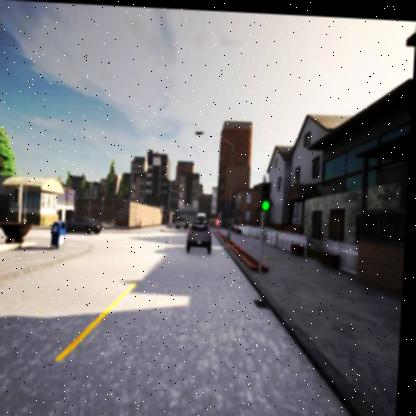vehicle: (187, 221, 216, 249), (70, 214, 105, 233), (194, 209, 210, 227)
